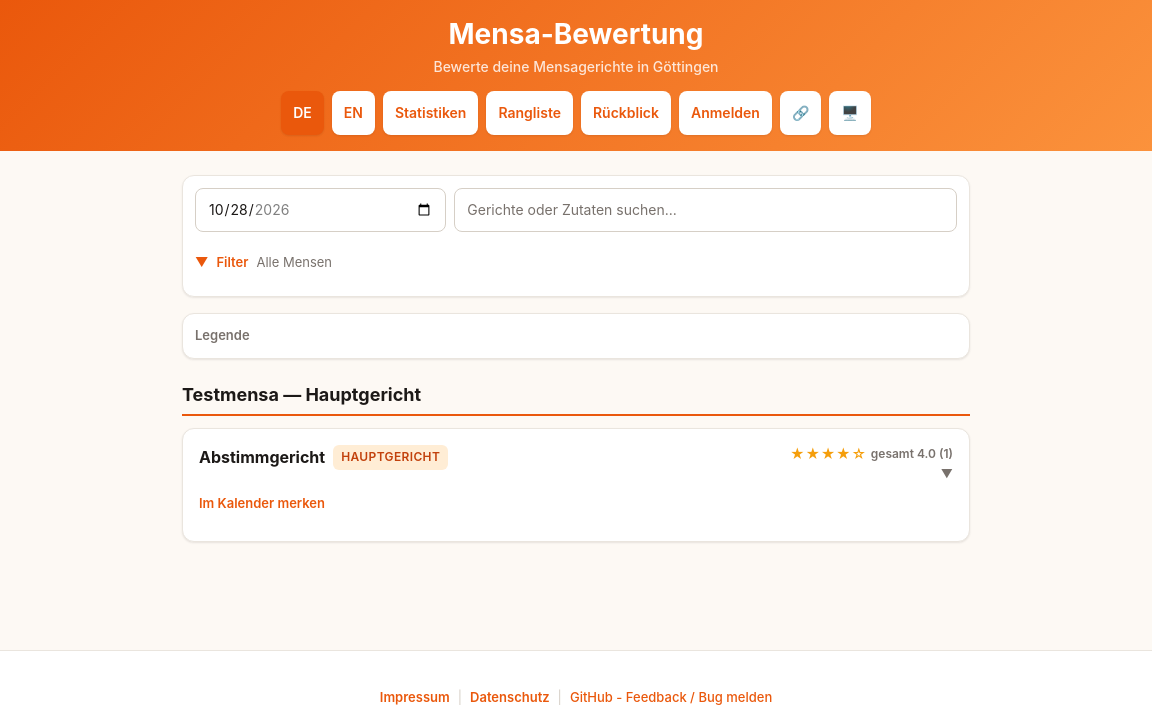
a failed vote says so instead of doing nothing
The width and height of the screenshot is (1152, 720).
Step 1. Click the text "Abstimmgericht" → (262, 458), box 199,447 -> 325,468
(page scrolled)
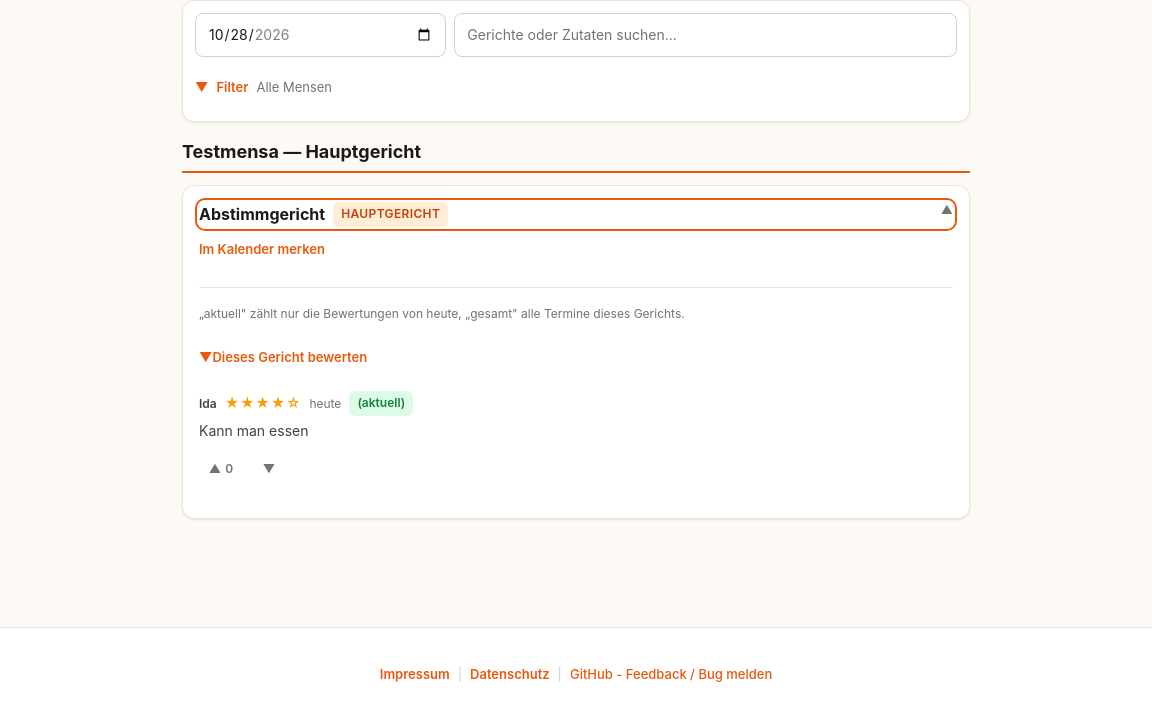
Expected: the text "Kann man essen" is shown, 199,422 -> 308,439
Step 2. Click the button named "Upvote" → (221, 468), box 199,446 -> 243,490
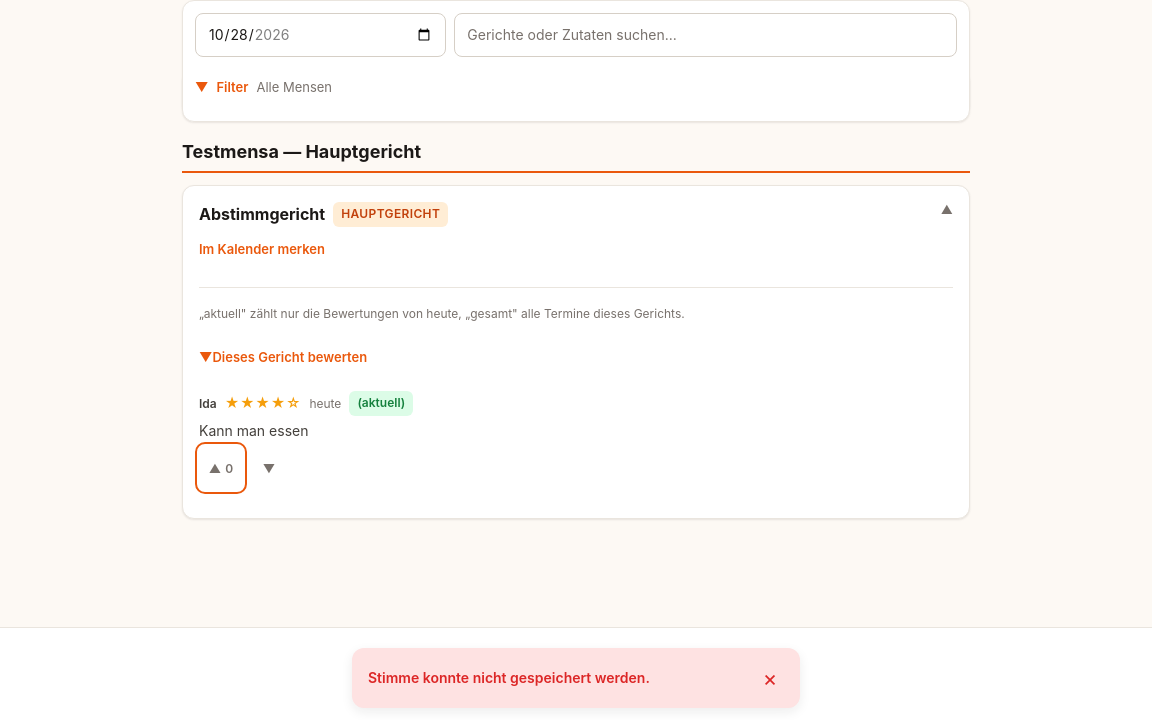
Expected: the text "Stimme konnte nicht gespeichert werden." is shown, 368,669 -> 650,686
// Dismissible by hand, not only on a timer.
Step 3. Click the button named "Schließen" → (770, 678), box 748,656 -> 792,700
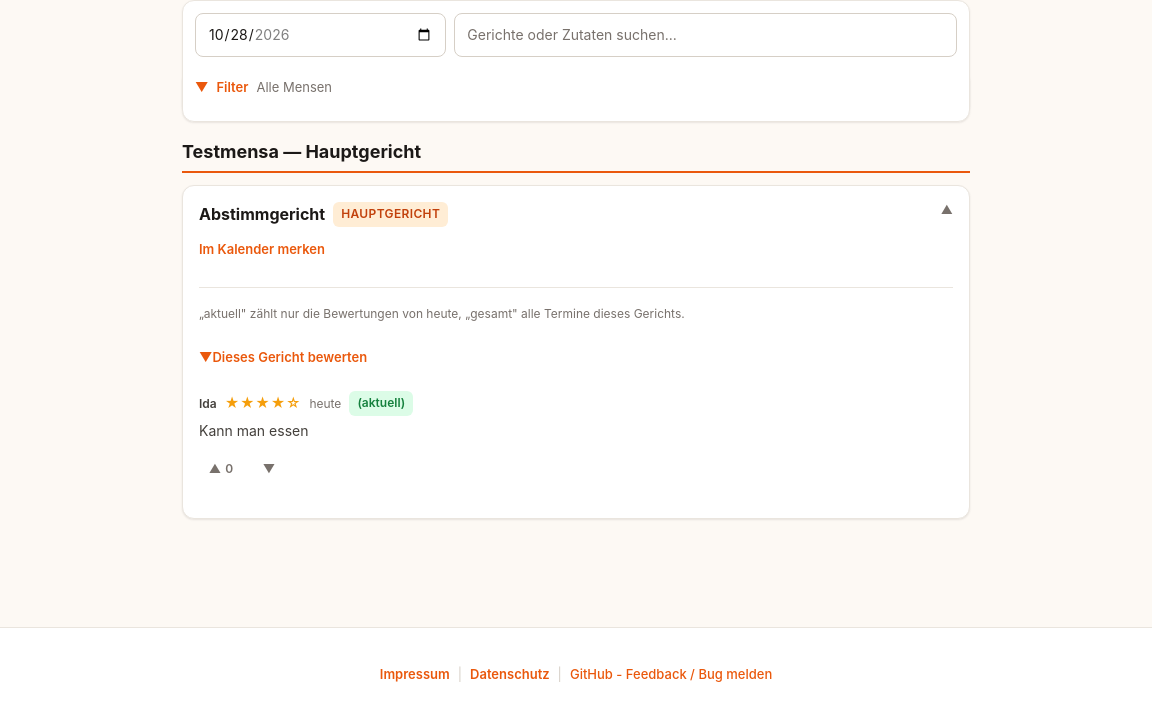
Expected: the text "Stimme konnte nicht gespeichert werden." is gone
